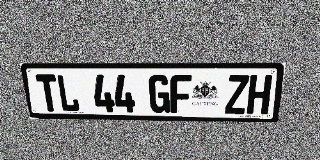4: (92, 75, 115, 112), (113, 75, 135, 113)
F: (170, 75, 192, 113)
G: (149, 75, 170, 113)
H: (246, 75, 273, 114)
L: (56, 74, 80, 112)
T: (35, 74, 60, 112)
Z: (225, 75, 249, 114)
